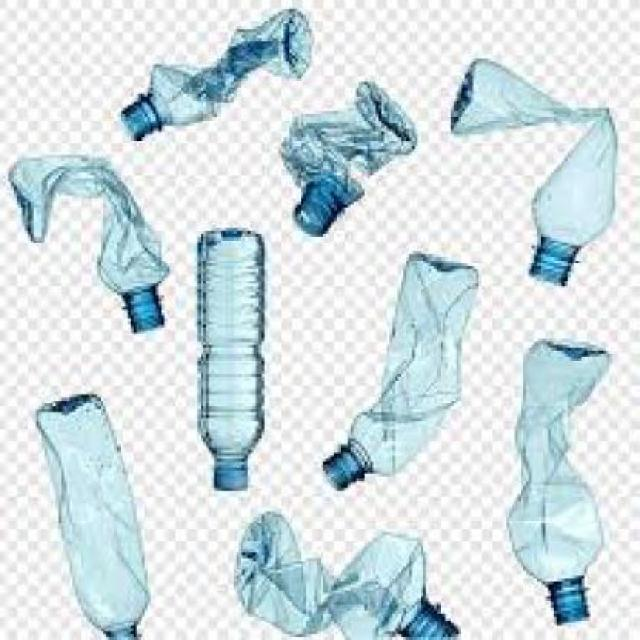PLASTIC: (326, 254, 482, 494), (454, 65, 620, 286), (512, 346, 616, 628), (11, 158, 172, 336), (235, 517, 463, 638), (38, 394, 151, 638), (125, 11, 318, 144), (285, 86, 420, 240), (200, 234, 268, 497), (220, 468, 251, 494)
